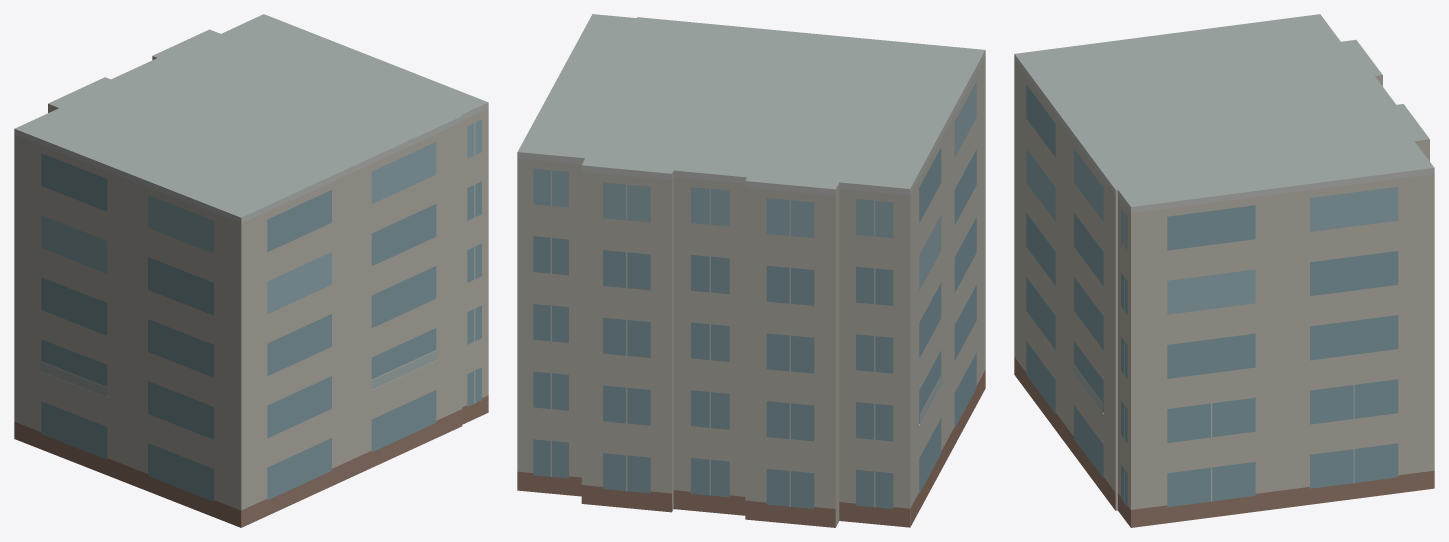
Rendered from survey-upis-32619863.glb.
The picture shows the model from 3 angles, left to right: view 1: azimuth 30°, elevation 25°; view 2: azimuth 150°, elevation 25°; view 3: azimuth 270°, elevation 25°; orthographic projection. The views are drawn at different scales.
Parts seen in each view (by area): view 1: survey-upis-32619863.tmp; view 2: survey-upis-32619863.tmp; view 3: survey-upis-32619863.tmp.
Part boxes in pixels (x1,y1,x2,y2): survey-upis-32619863.tmp: (14,14,488,527); survey-upis-32619863.tmp: (517,14,985,527); survey-upis-32619863.tmp: (1014,14,1434,527).
Bounding box in the file's own units: 16.66 × 12.9 × 15.32.
